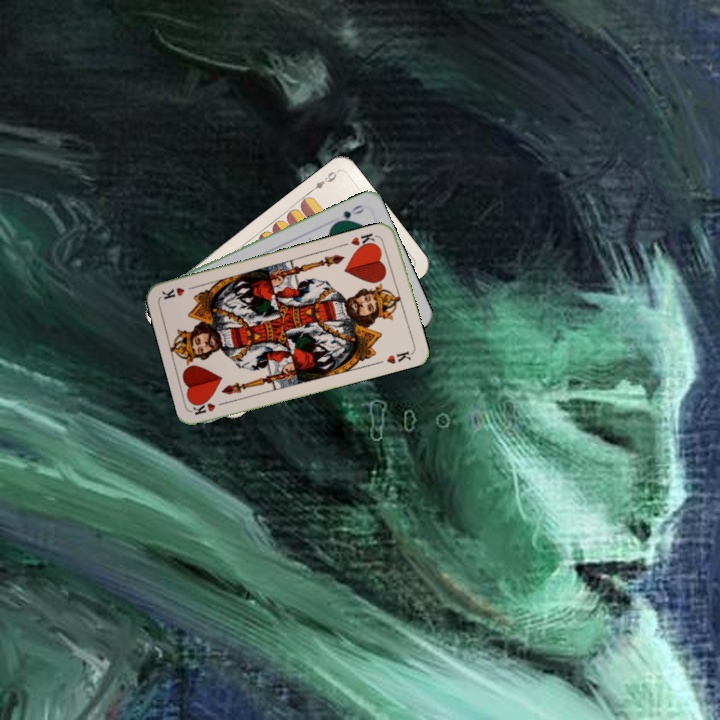E9: (306, 167, 340, 195)
GO: (331, 201, 368, 226)
HK: (190, 397, 231, 418), (347, 229, 381, 253)
